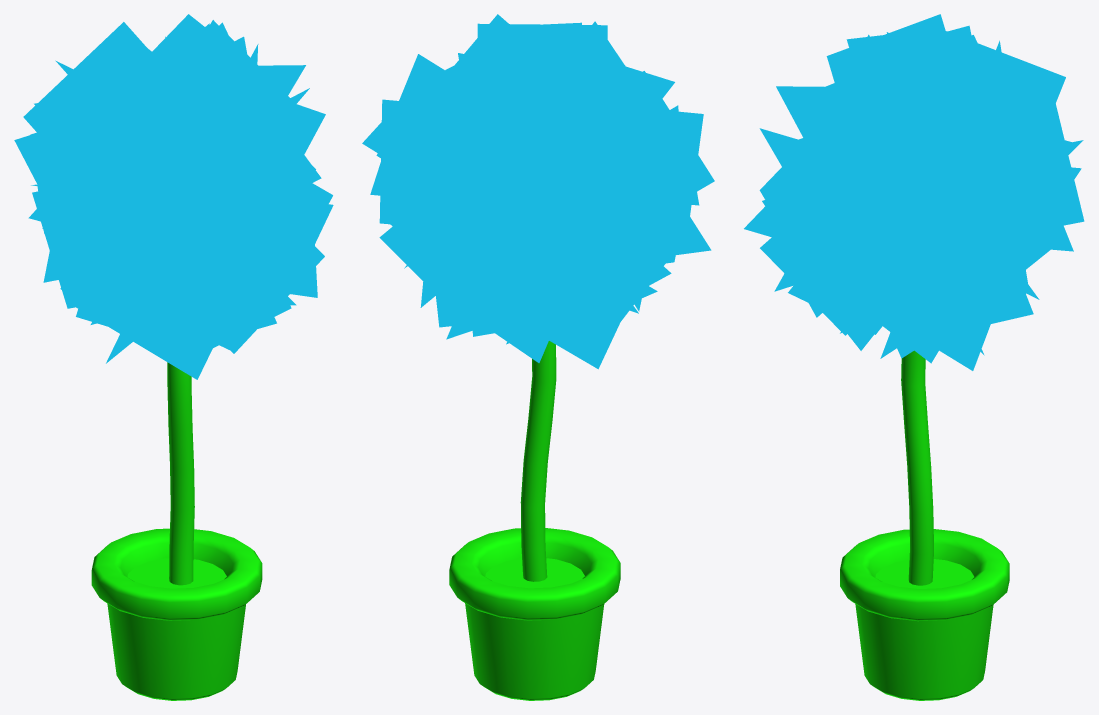
The model's file is SM_Plant.FBX.
3 views of the same model, side by side, from view 1: azimuth 30°, elevation 25°; view 2: azimuth 150°, elevation 25°; view 3: azimuth 270°, elevation 25° (orthographic).
Parts seen in each view (by area): view 1: Plant; view 2: Plant; view 3: Plant.
Part boxes in pixels (left/top/right/bottom): Plant: left=14, top=14, right=333, bottom=700; Plant: left=362, top=14, right=714, bottom=700; Plant: left=744, top=14, right=1084, bottom=700.
Bounding box in the file's own units: 48.11 × 97.51 × 46.64.
